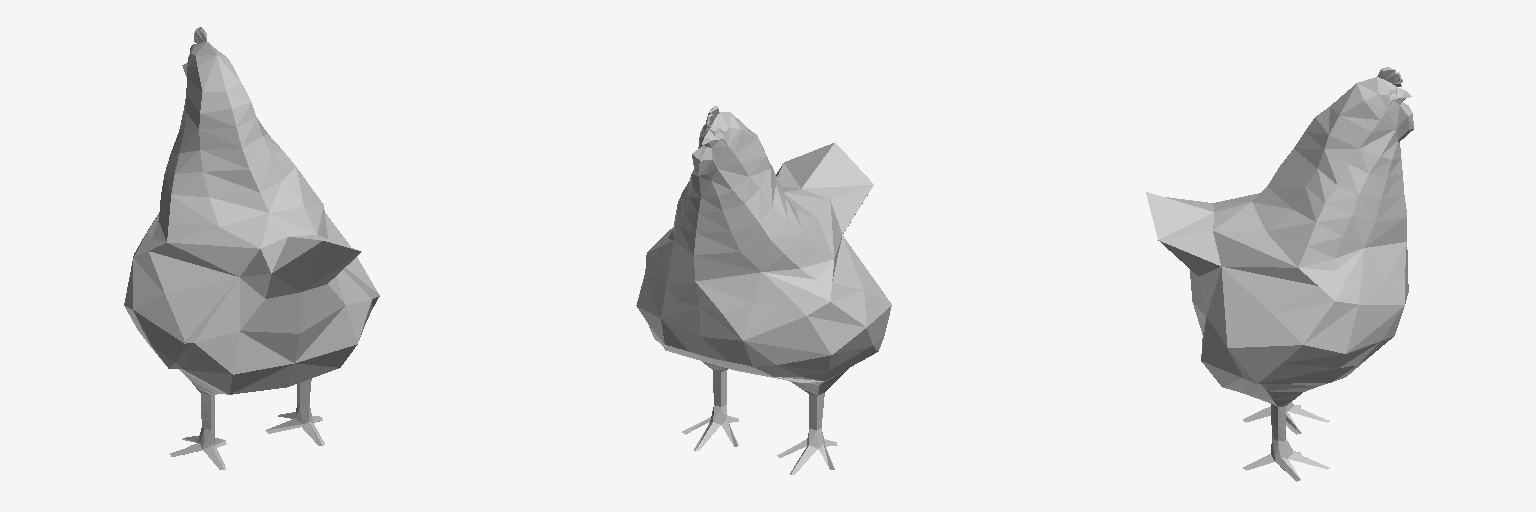
The model's file is frame1.obj.
3 views of the same model, side by side, from view 1: azimuth 30°, elevation 25°; view 2: azimuth 150°, elevation 25°; view 3: azimuth 270°, elevation 25° (orthographic).
Visible parts, largest first — view 1: frame1:Chicken; view 2: frame1:Chicken; view 3: frame1:Chicken.
Part boxes in pixels (bbox=[...]): frame1:Chicken: bbox=[124, 27, 379, 469]; frame1:Chicken: bbox=[636, 106, 891, 474]; frame1:Chicken: bbox=[1146, 67, 1413, 481].
Bounding box in the file's own units: 2.14 × 3.49 × 2.25.